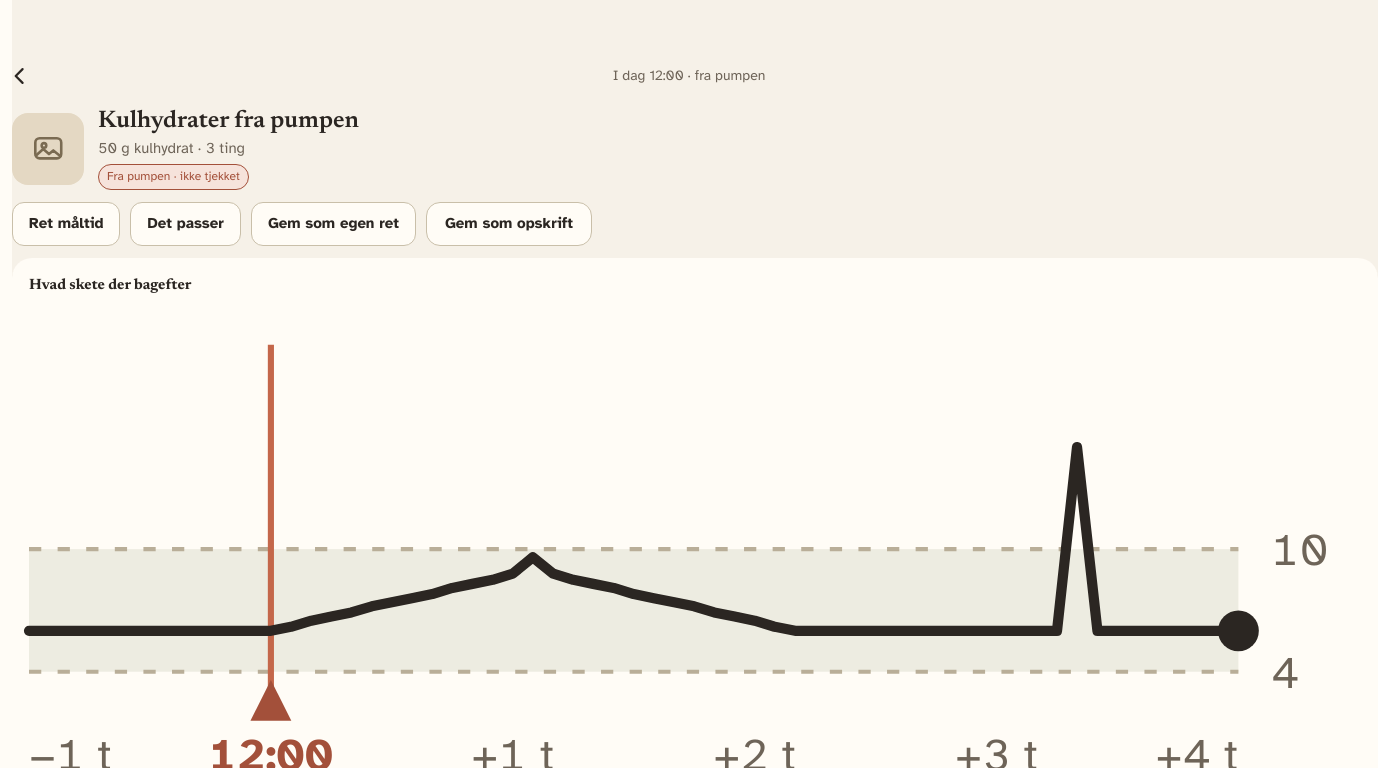
Test: Måltid · who logged a pump meal (#244) › phone: names the person who ticks 'Det passer' once the meal is theirs
The width and height of the screenshot is (1378, 768).
Click the button "Det passer". click: (186, 224)
box: [130,202,241,246]
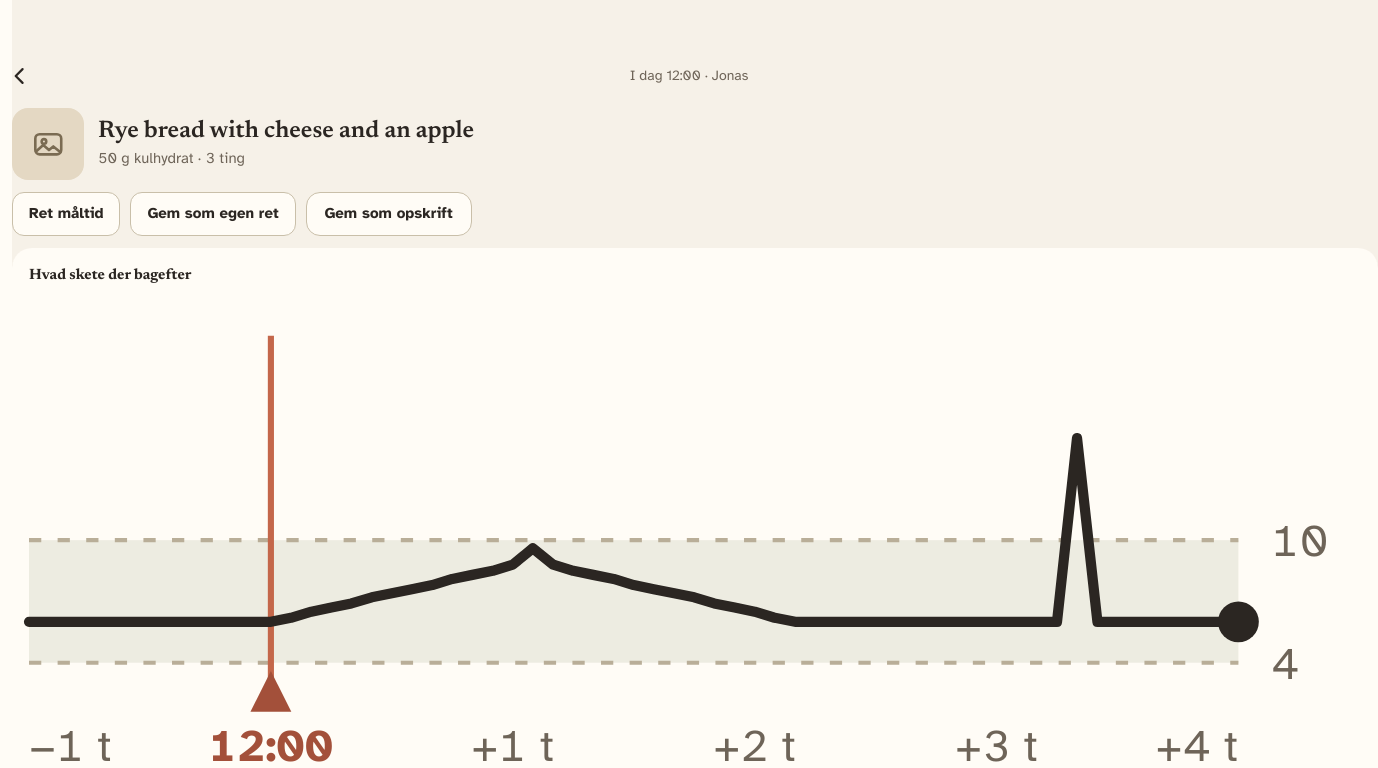
Expected: the text "I dag 12:00 · Jonas" is shown, [630,67,748,84]
Expected: the text "fra pumpen" is gone
